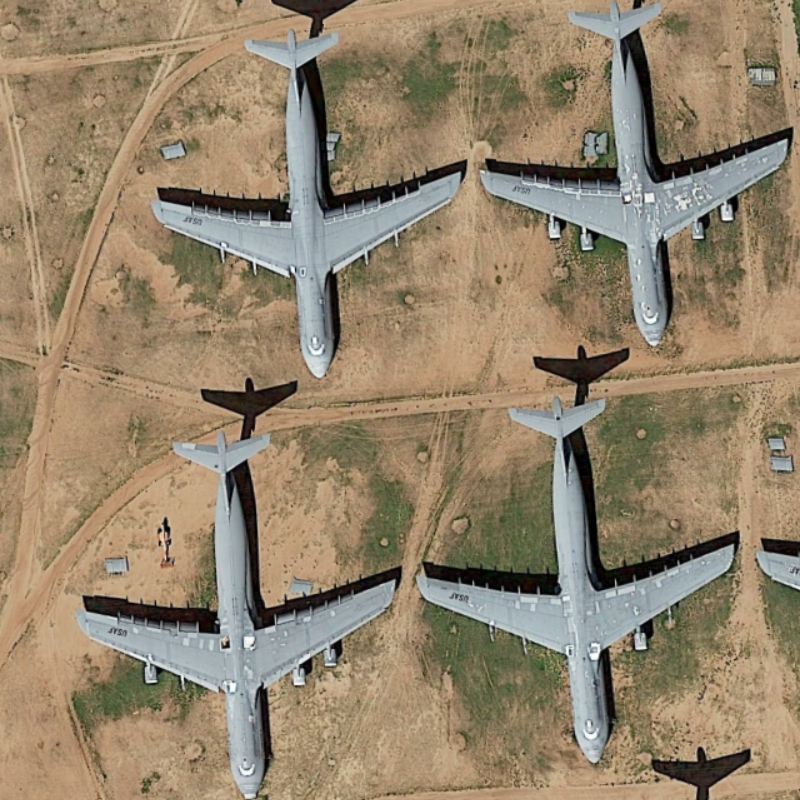A4: (66, 416, 410, 795), (424, 389, 753, 772), (152, 23, 475, 386), (473, 1, 794, 352)
